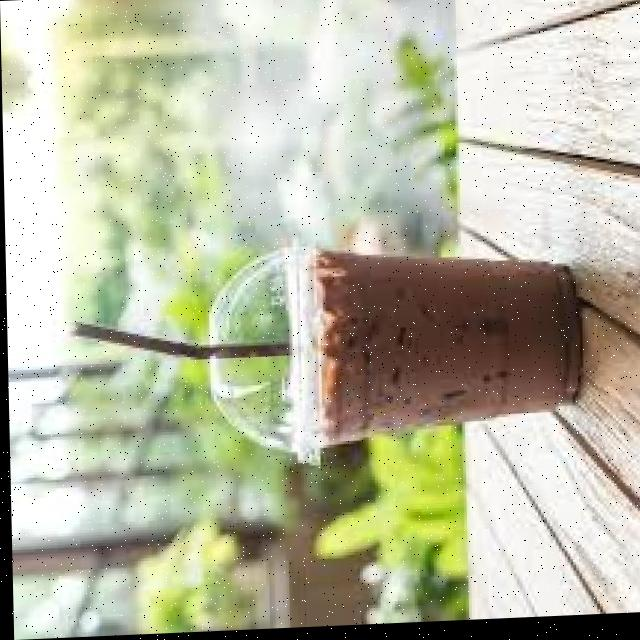cup: (318, 254, 578, 446)
